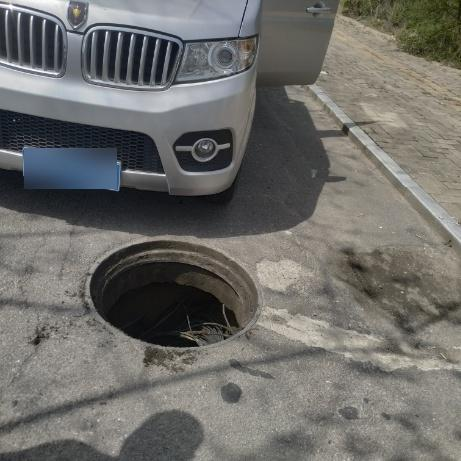wellcover: (80, 232, 273, 354)
